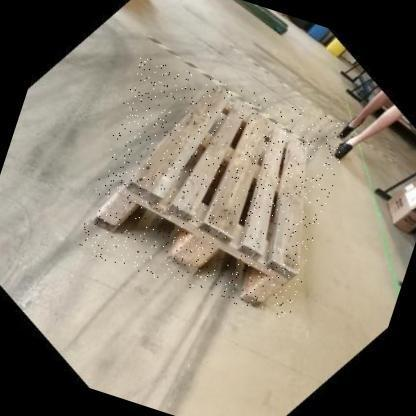pallet: (92, 90, 307, 310)
